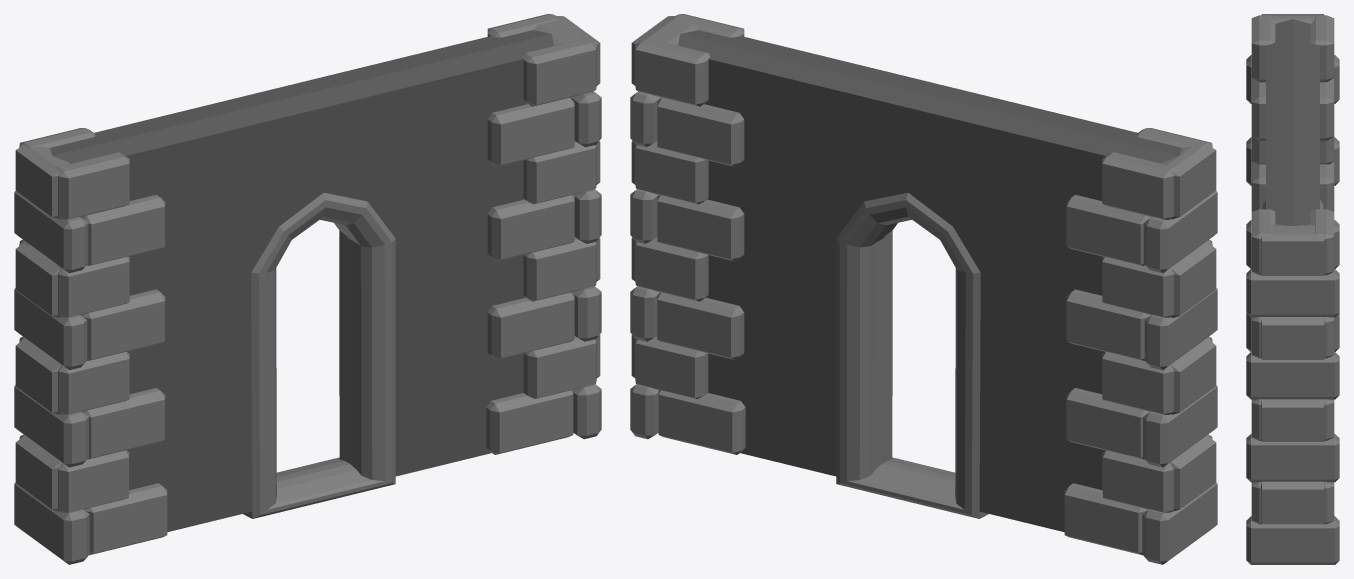
File: DungeonWallDoor.fbx
3 views of the same model, side by side, from view 1: azimuth 30°, elevation 25°; view 2: azimuth 150°, elevation 25°; view 3: azimuth 270°, elevation 25° (orthographic). The views are drawn at different scales.
Parts seen in each view (by area): view 1: DungeonWallDoor; view 2: DungeonWallDoor; view 3: DungeonWallDoor.
Boxes of the visible parts, <box> form: DungeonWallDoor: <box>14,14,601,564</box>; DungeonWallDoor: <box>630,14,1217,564</box>; DungeonWallDoor: <box>1246,14,1339,564</box>.
Size of the model in its own units: 520 by 362 by 90.43.
1 material, 1 textured.
